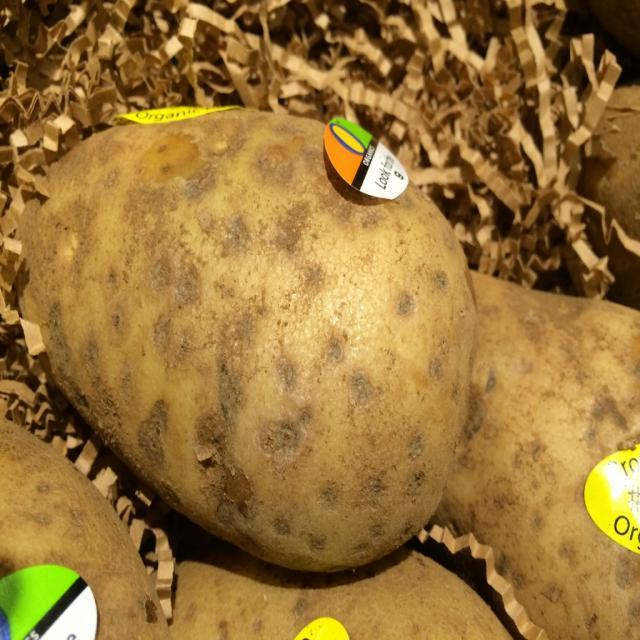Potato: (15, 103, 478, 571), (429, 266, 639, 640), (0, 418, 169, 639), (174, 549, 514, 640)
